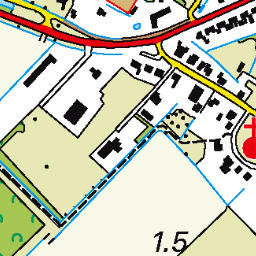church: (238, 114, 256, 163)
